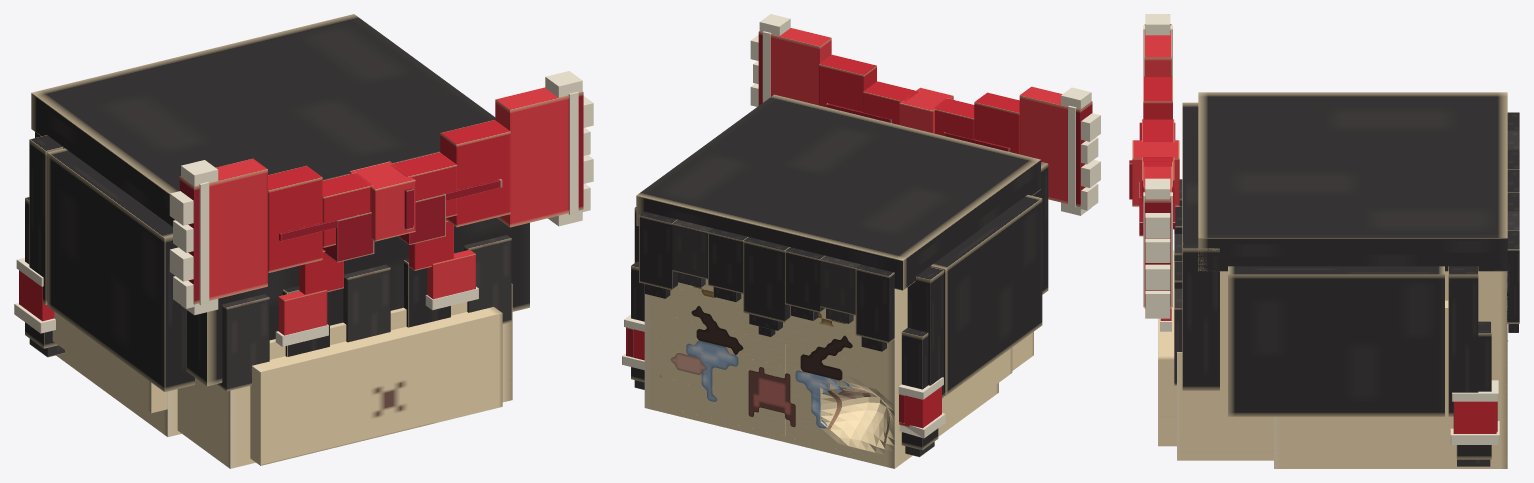
Rendered from dent_reimu_3.obj.
3 views of the same model, side by side, from view 1: azimuth 30°, elevation 25°; view 2: azimuth 150°, elevation 25°; view 3: azimuth 270°, elevation 25° (orthographic). The views are drawn at different scales.
Parts seen in each view (by area): view 1: dent_reimu_3; view 2: dent_reimu_3; view 3: dent_reimu_3.
Boxes of the visible parts, x1=… form: dent_reimu_3: x1=14, y1=14, x2=593, y2=468; dent_reimu_3: x1=622, y1=14, x2=1100, y2=468; dent_reimu_3: x1=1129, y1=14, x2=1519, y2=468.
Size of the model in its own units: 16.28 by 12.24 by 14.49.
Materials: 1 (1 with a texture image).
